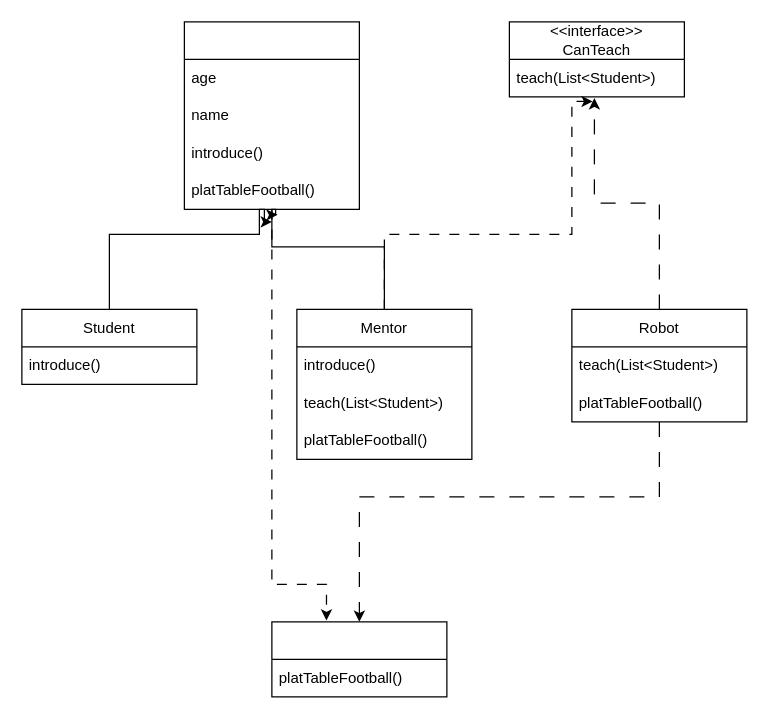
This 769x719 diagram has some shape labels left out. The box of each missing label's shape, as (x1, y1, x2, y2) in pixels:
<<interface>> CanPlayFootball: (271, 621, 447, 697)
Person: (183, 21, 359, 209)
